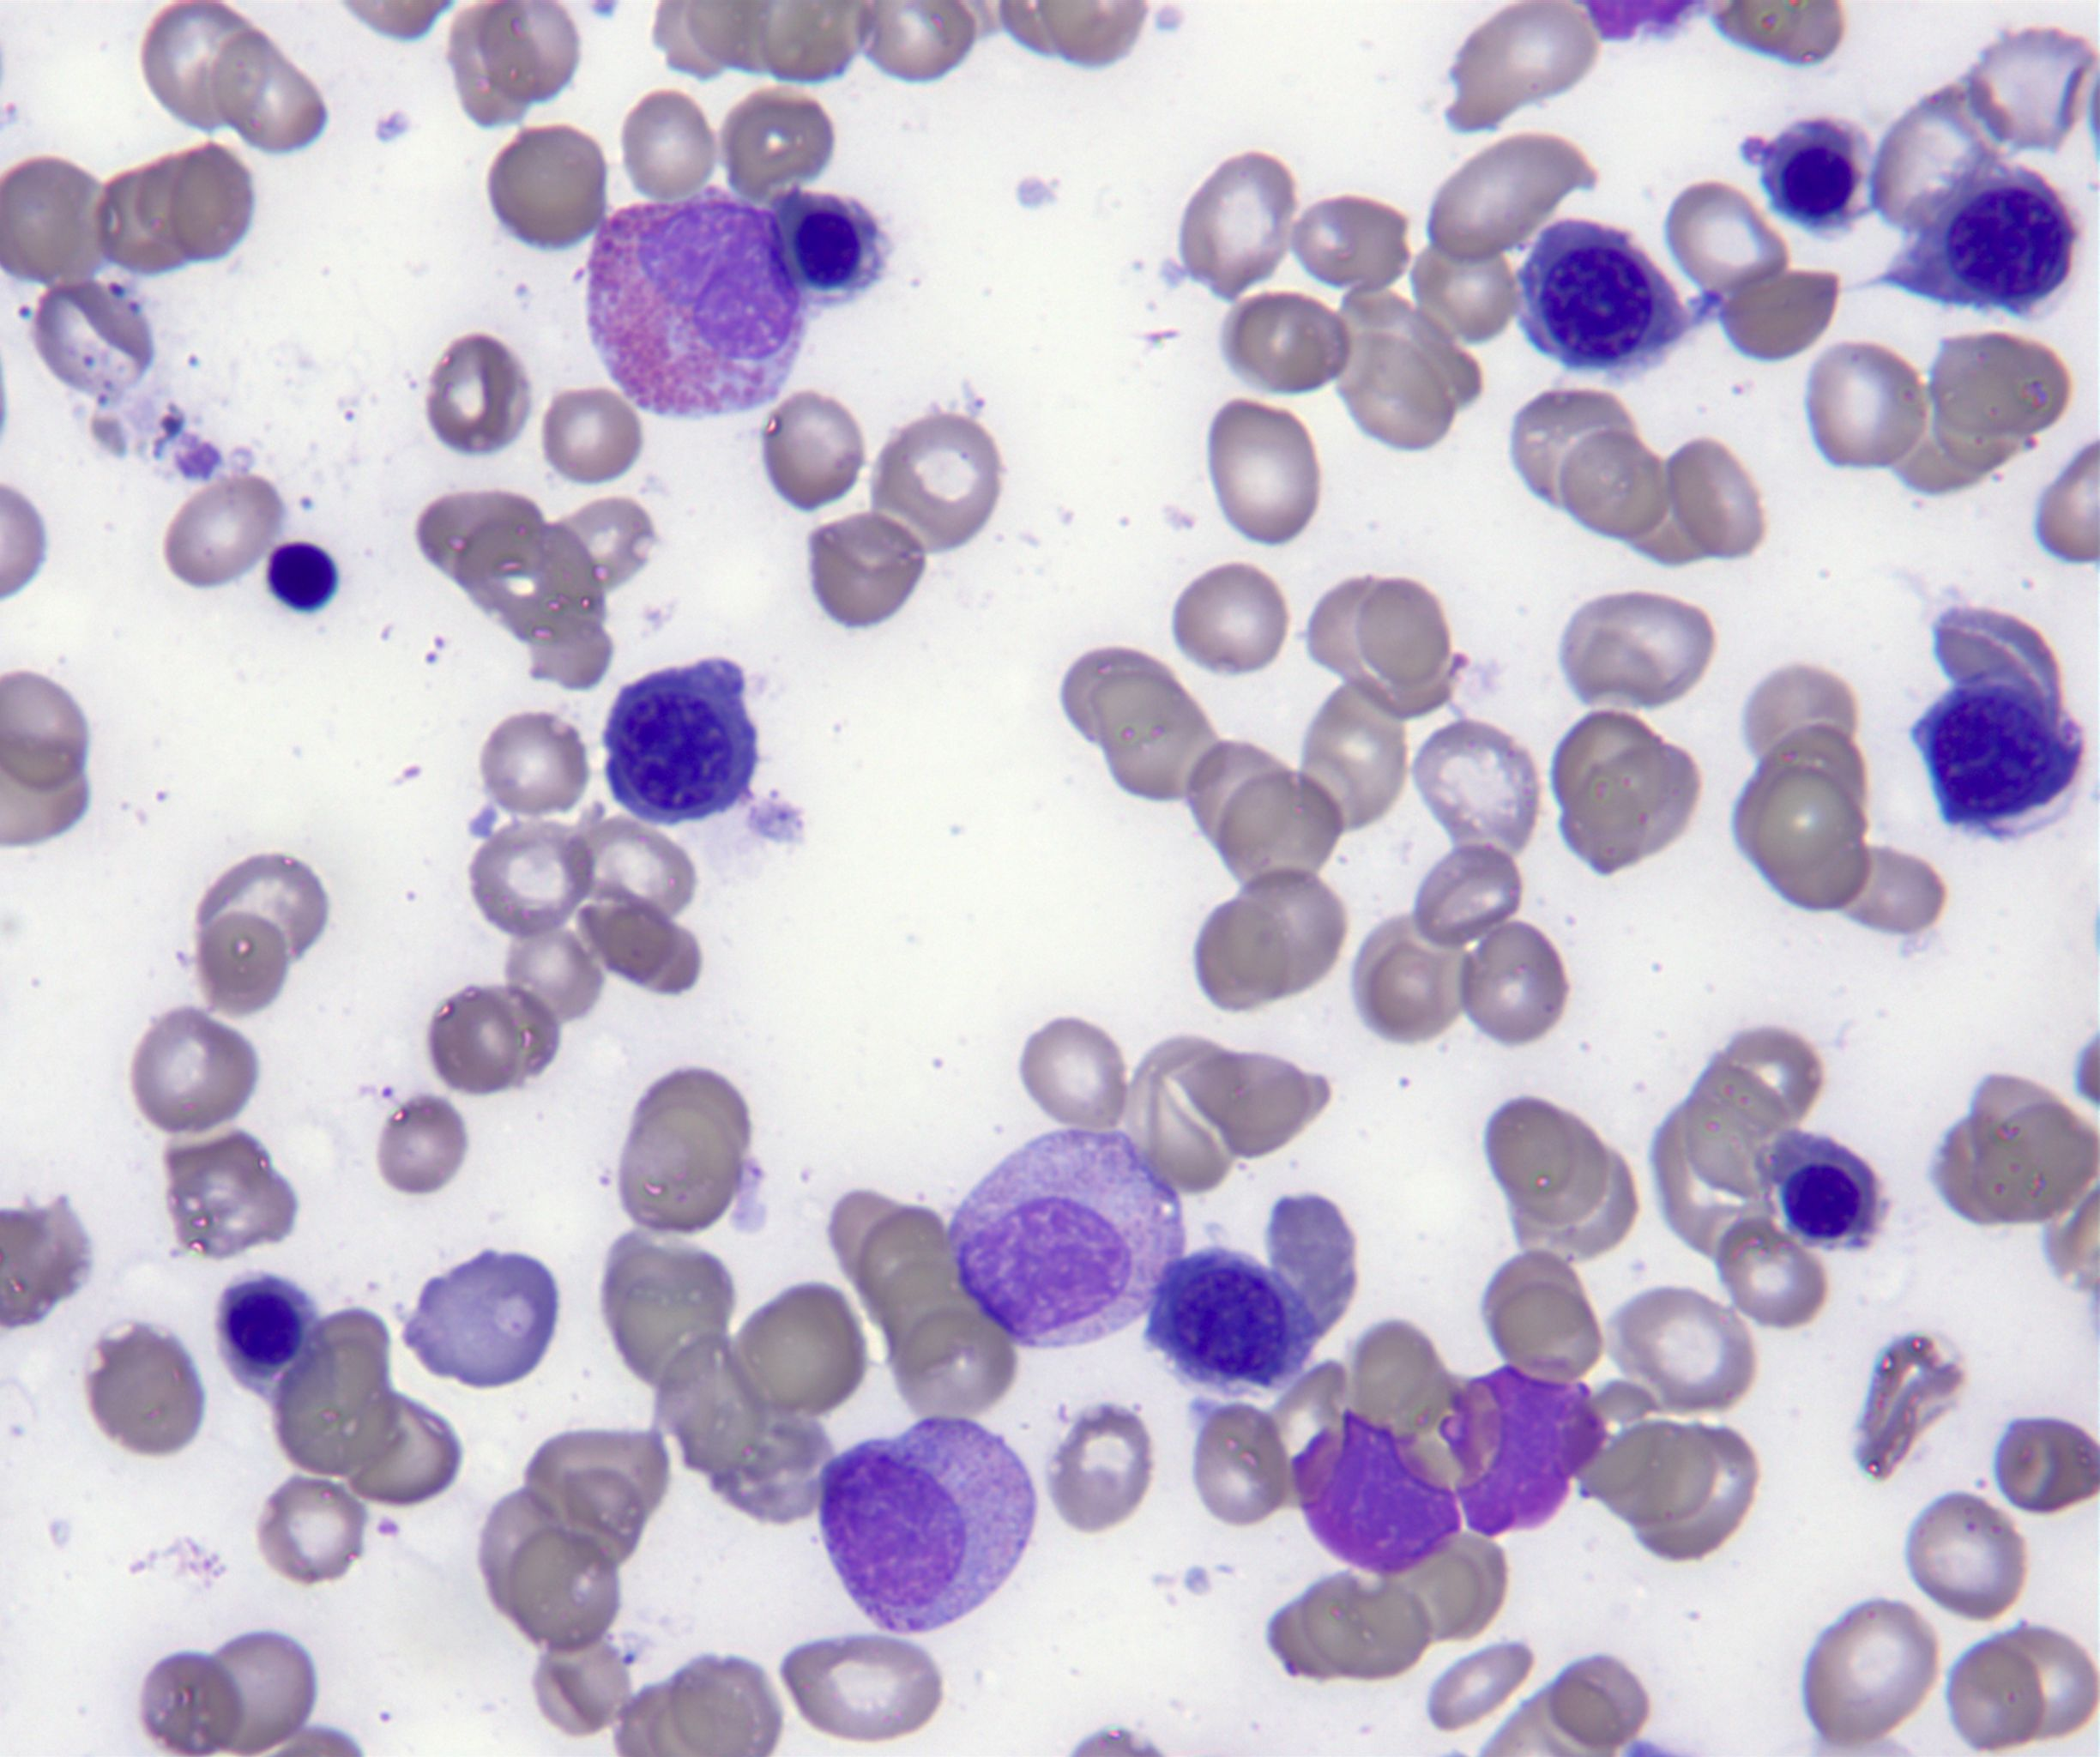23: (1887, 143, 2083, 321), (1512, 218, 1702, 380), (1912, 673, 2088, 843), (1141, 1242, 1322, 1406), (602, 654, 762, 825), (764, 192, 895, 305)
24: (209, 1268, 340, 1413), (1751, 1125, 1892, 1256), (1758, 115, 1885, 241)
3: (944, 1127, 1186, 1349), (818, 1413, 1040, 1637)
E3: (584, 187, 806, 417)
x: (1437, 1361, 1608, 1539), (1287, 1412, 1460, 1583), (262, 537, 342, 616)
